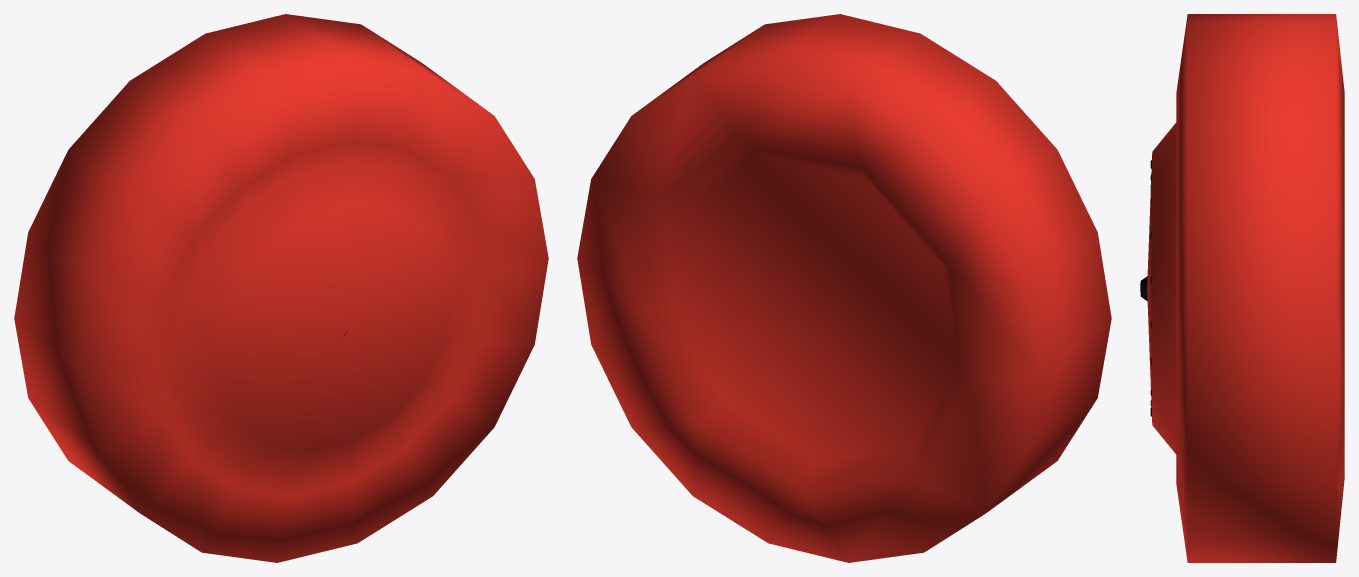
File: WheelPuma.fbx
3 views of the same model, side by side, from view 1: azimuth 30°, elevation 25°; view 2: azimuth 150°, elevation 25°; view 3: azimuth 270°, elevation 25° (orthographic). The views are drawn at different scales.
Visible parts, largest first — view 1: W_BR2.002; view 2: W_BR2.002; view 3: W_BR2.002.
Boxes of the visible parts, box(x1,y1,x2,y2) form: W_BR2.002: box(14, 14, 548, 562); W_BR2.002: box(577, 14, 1111, 562); W_BR2.002: box(1140, 14, 1344, 562).
Bounding box in the file's own units: 9.46 × 25.55 × 25.17.
